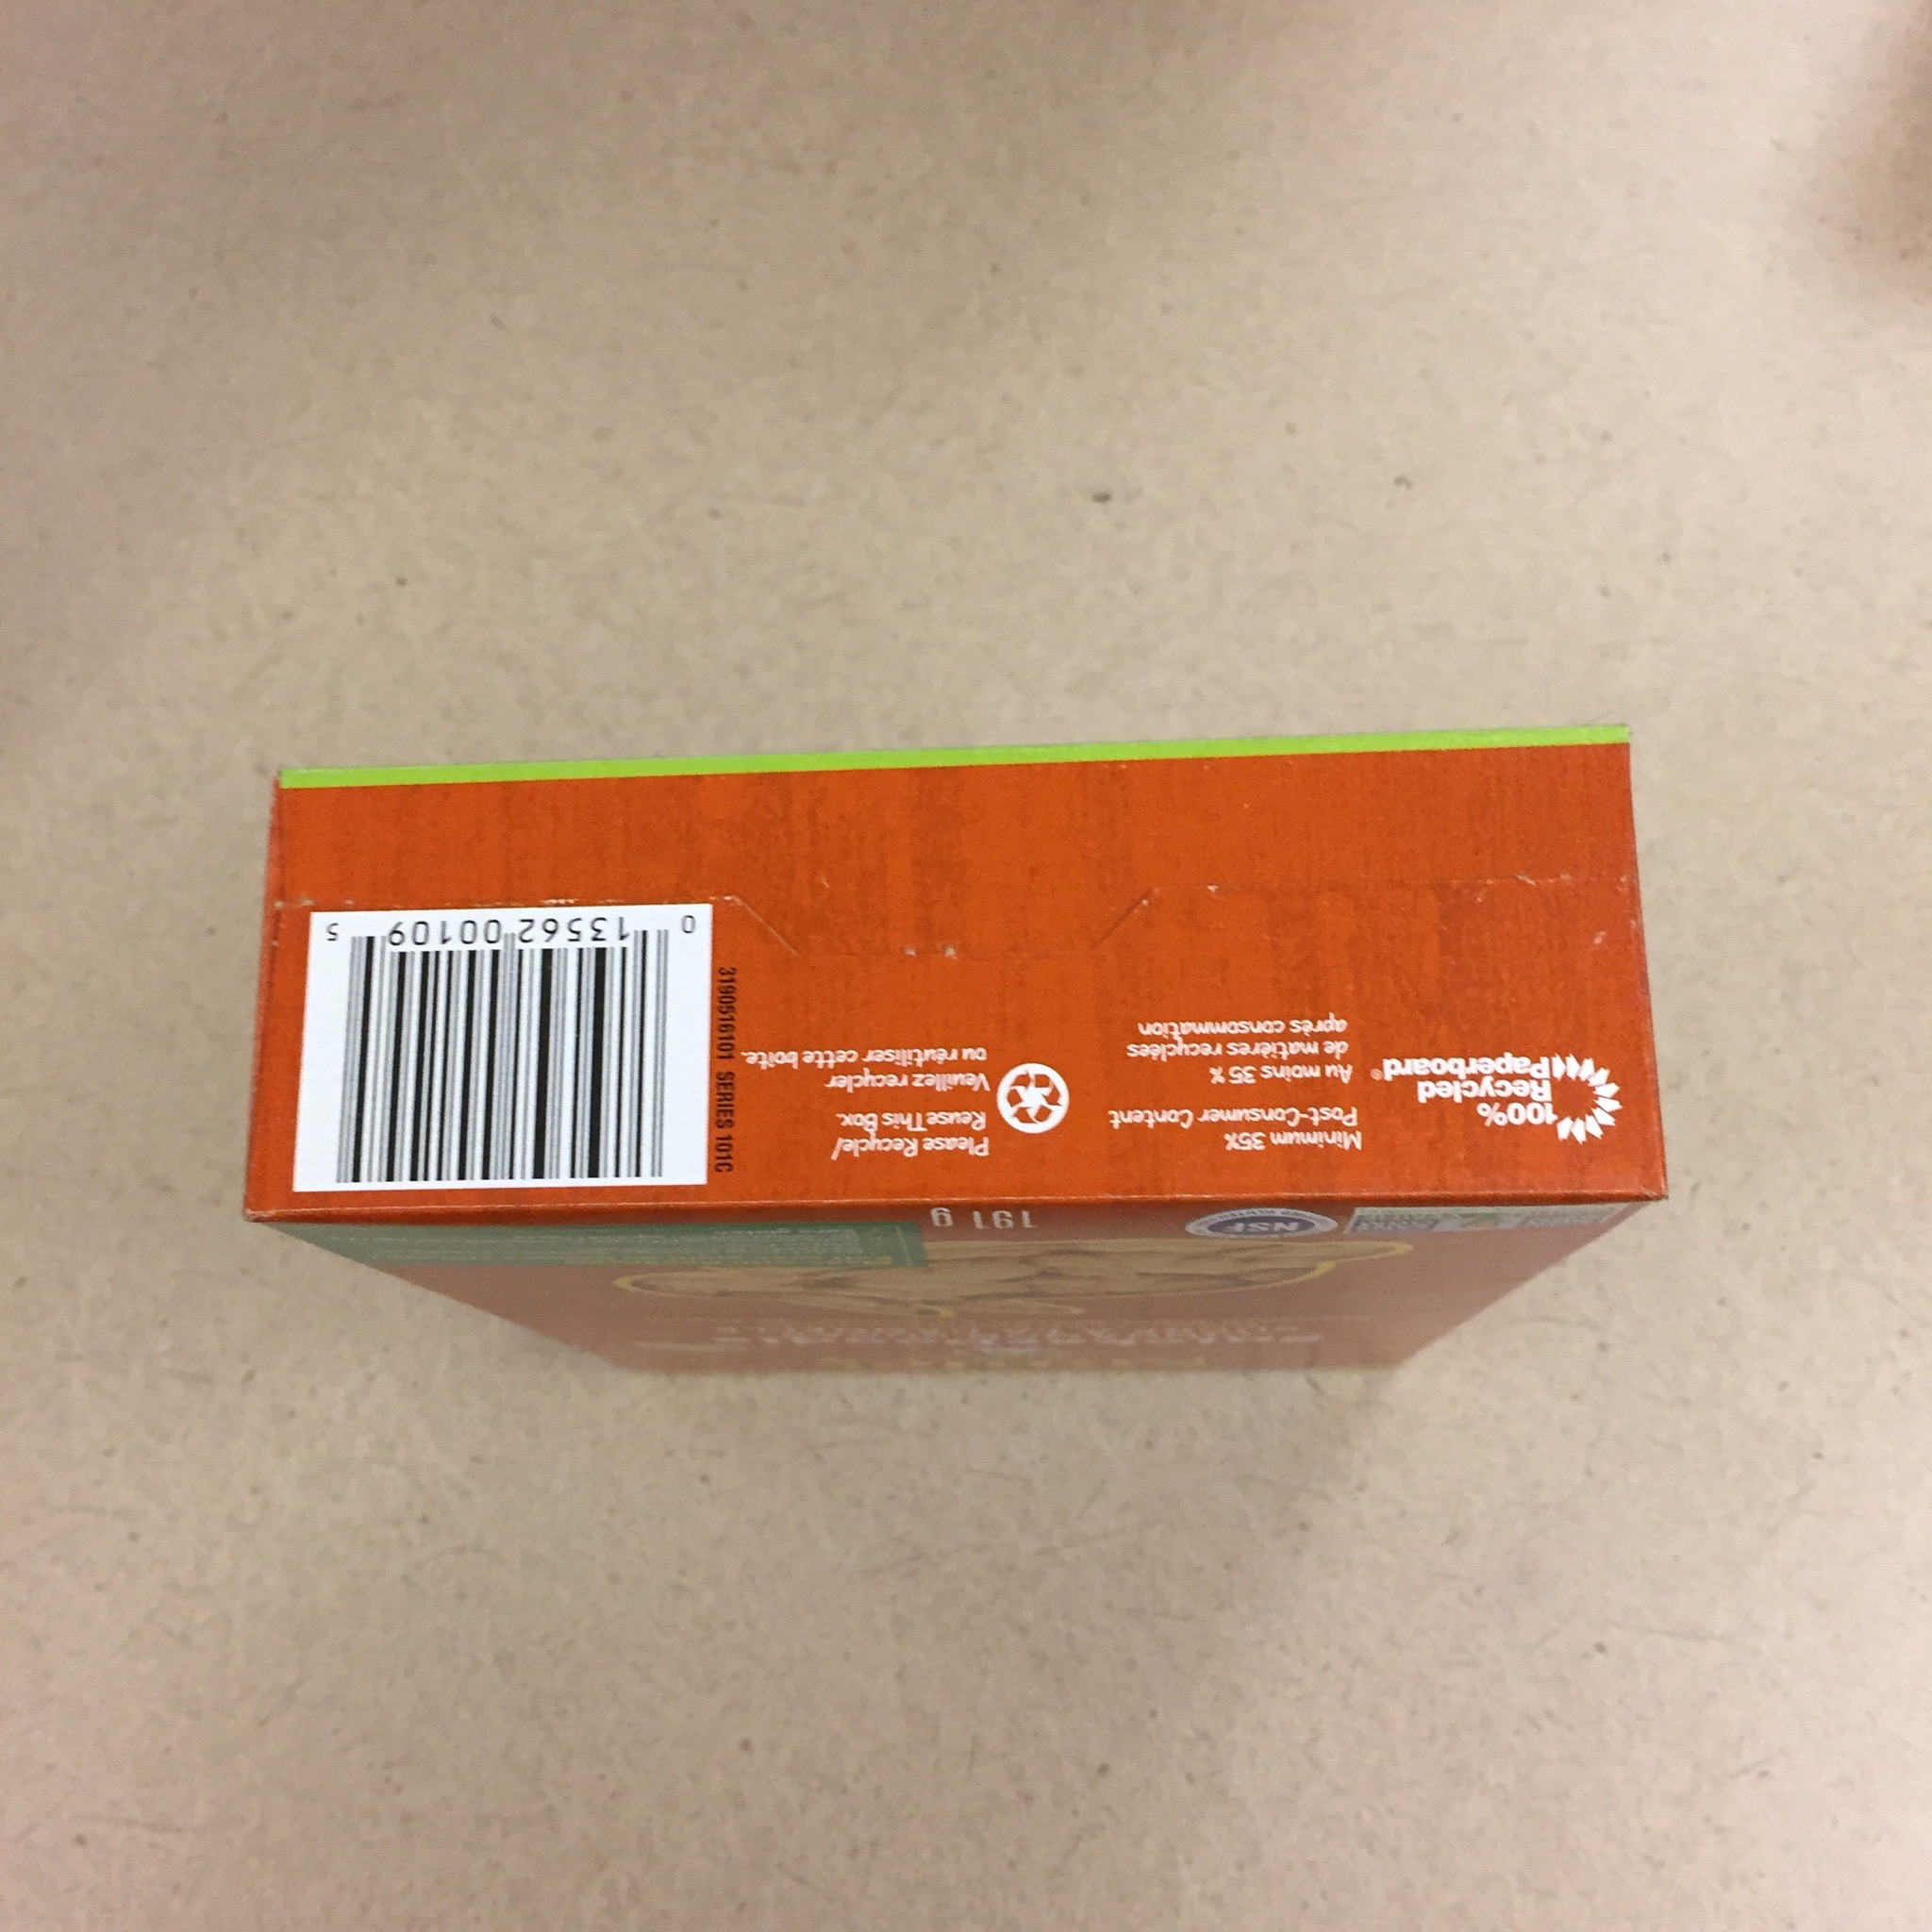annies_snickerdoodle_cinnamon_sugar: (234, 717, 1674, 1382)
